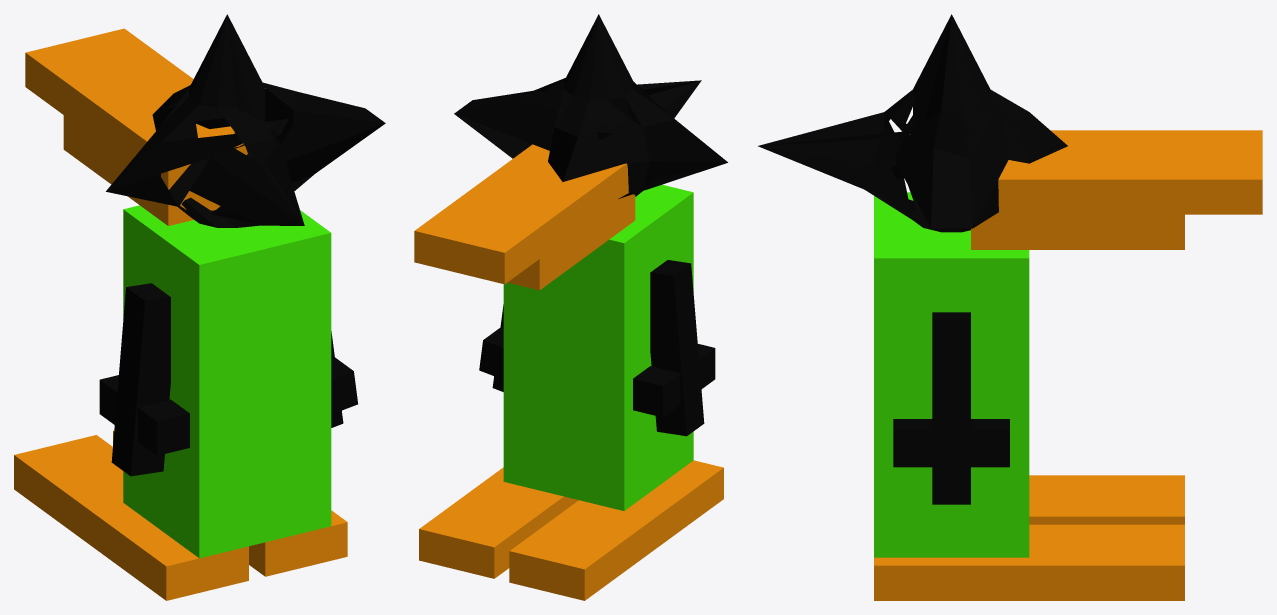
File: parrottest.gltf
3 views of the same model, side by side, from view 1: azimuth 30°, elevation 25°; view 2: azimuth 150°, elevation 25°; view 3: azimuth 270°, elevation 25° (orthographic). The views are drawn at different scales.
Parts seen in each view (by area): view 1: cube (×9), sphere; view 2: cube (×9), sphere; view 3: cube (×8), sphere.
Part boxes in pixels (left/top/right/bottom): cube (×9): left=14, top=28, right=357, bottom=600; sphere: left=106, top=14, right=385, bottom=227; cube (×9): left=414, top=144, right=723, bottom=600; sphere: left=454, top=14, right=727, bottom=198; cube (×8): left=874, top=130, right=1262, bottom=600; sphere: left=758, top=14, right=1067, bottom=232.
Bounding box in the file's own units: 1.06 × 1.94 × 1.62.
Materials: 1 (1 with a texture image).
